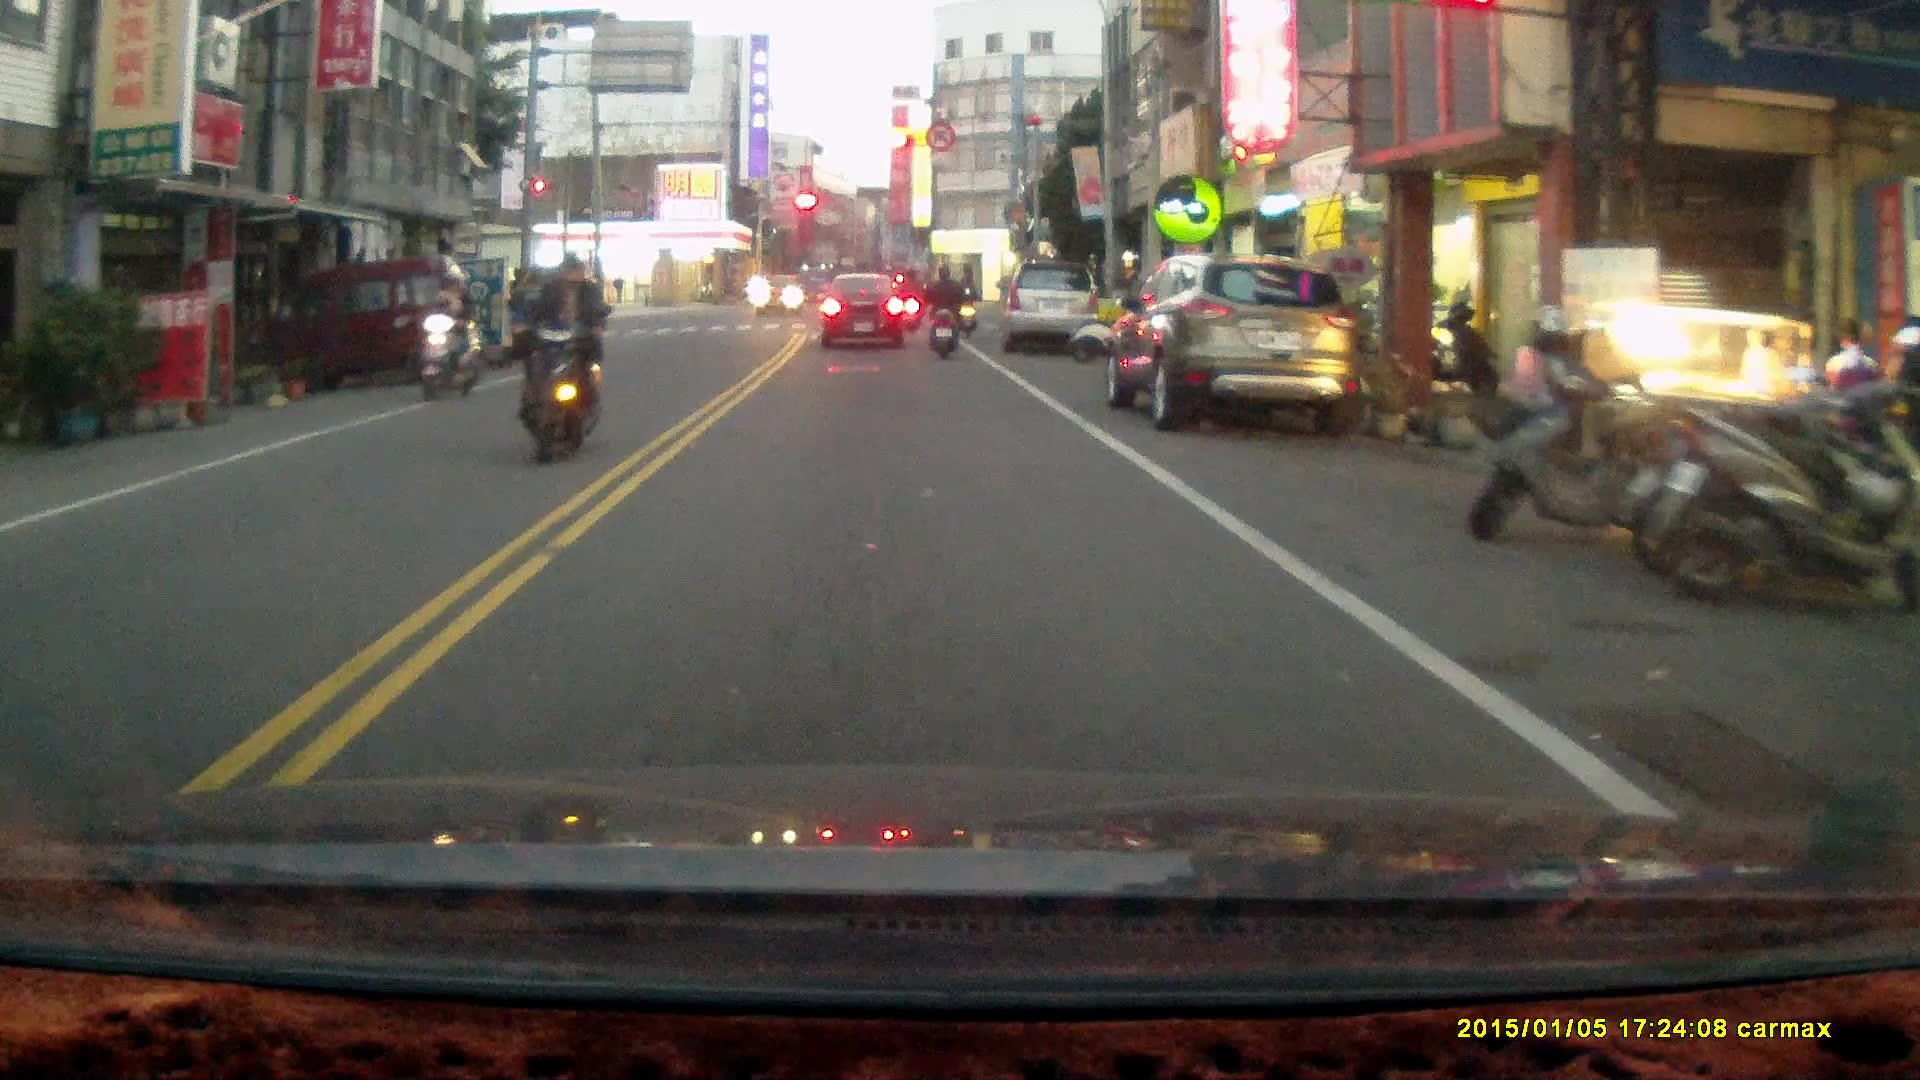pedestrian: (1825, 318, 1882, 472)
rider: (513, 248, 605, 469), (415, 269, 485, 405), (918, 265, 964, 363), (893, 265, 922, 330), (953, 275, 979, 338)
vehicle: (1109, 256, 1361, 442), (266, 254, 482, 397), (1005, 263, 1103, 357), (821, 278, 912, 352)
